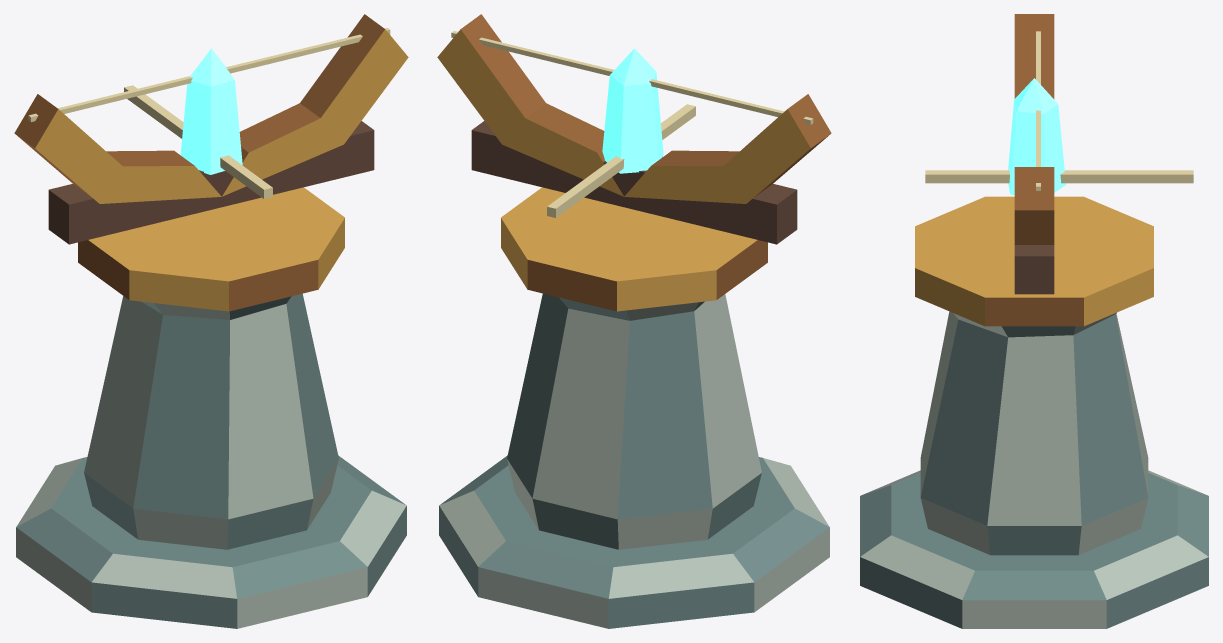
The model's file is tower_sunbow.glb.
The picture shows the model from 3 angles, left to right: view 1: azimuth 30°, elevation 25°; view 2: azimuth 150°, elevation 25°; view 3: azimuth 270°, elevation 25°; orthographic projection. The views are drawn at different scales.
Visible parts, largest first — view 1: sunbow_shaft, sunbow_foundation, sunbow_gold_collar, Sunbow_wing.001, Sunbow_wing, Sunbow_crossbar, Sunbow_glass_eye, Sunbow_string, Sunbow_bolt; view 2: sunbow_shaft, sunbow_foundation, sunbow_gold_collar, Sunbow_wing.001, Sunbow_wing, Sunbow_crossbar, Sunbow_glass_eye, Sunbow_string, Sunbow_bolt; view 3: sunbow_shaft, sunbow_foundation, sunbow_gold_collar, Sunbow_glass_eye, Sunbow_wing.001, Sunbow_bolt, Sunbow_wing, Sunbow_crossbar, Sunbow_string.
Boxes of the visible parts, x1,y1,x2,y2 form: sunbow_shaft: (84,293,338,549); sunbow_foundation: (16,455,406,628); sunbow_gold_collar: (78,187,344,311); Sunbow_wing.001: (222,14,408,196); Sunbow_wing: (14,94,221,203); Sunbow_crossbar: (48,121,374,244); Sunbow_glass_eye: (180,48,242,174); Sunbow_string: (28,28,390,121); Sunbow_bolt: (124,85,272,198); sunbow_shaft: (507,293,761,549); sunbow_foundation: (439,455,829,628); sunbow_gold_collar: (501,187,767,311); Sunbow_wing.001: (437,14,623,196); Sunbow_wing: (624,94,831,203); Sunbow_crossbar: (471,121,797,244); Sunbow_glass_eye: (602,48,663,173); Sunbow_string: (451,31,813,124); Sunbow_bolt: (547,104,695,217); sunbow_shaft: (920,311,1148,555); sunbow_foundation: (860,470,1208,628); sunbow_gold_collar: (915,196,1153,326); Sunbow_glass_eye: (1008,78,1066,194); Sunbow_wing.001: (1014,167,1054,244); Sunbow_bolt: (925,170,1193,183); Sunbow_wing: (1014,14,1054,99); Sunbow_crossbar: (1014,245,1054,294); Sunbow_string: (1036,31,1040,190).
Bounding box in the file's own units: 2.08 × 2.65 × 1.76.
